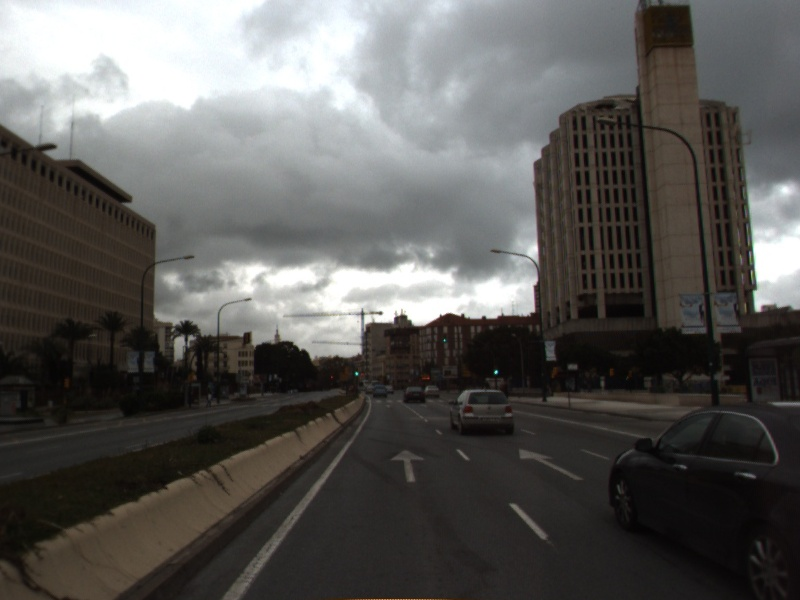STRAIGHT: (517, 446, 587, 483), (387, 447, 426, 485)
